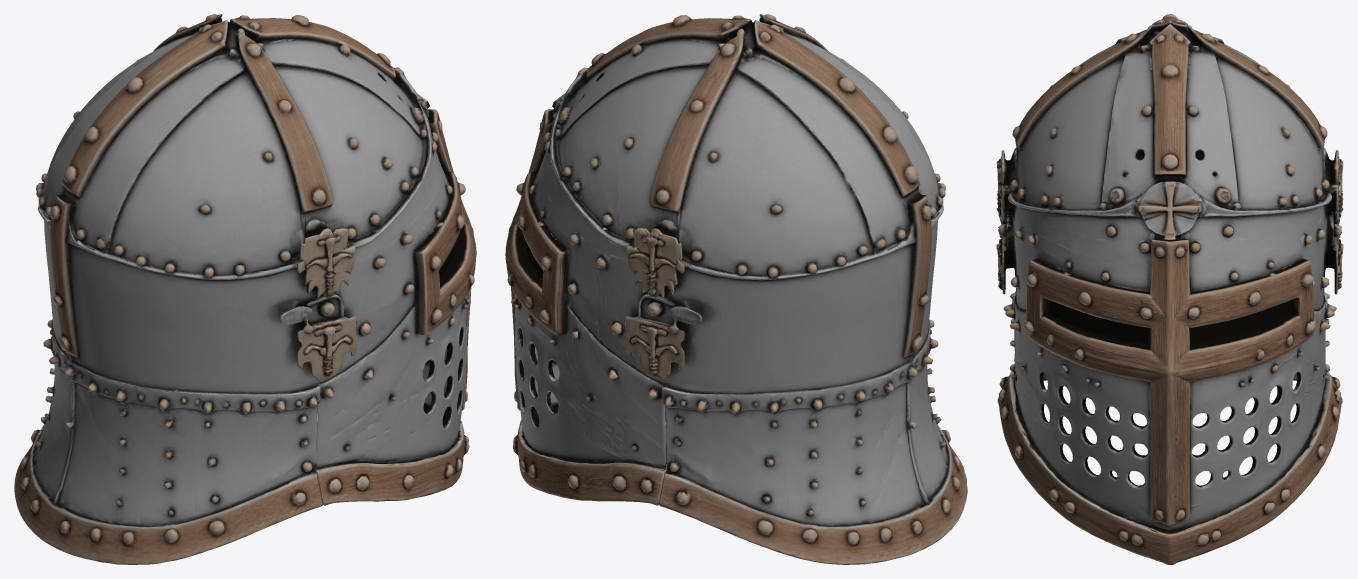
The model's file is metalhelmet01.glb.
The picture shows the model from 3 angles, left to right: view 1: azimuth 30°, elevation 25°; view 2: azimuth 150°, elevation 25°; view 3: azimuth 270°, elevation 25°; orthographic projection. The views are drawn at different scales.
Parts seen in each view (by area): view 1: tripo_node_605ef570-d2c6-46bd-931a-ef69c182338c; view 2: tripo_node_605ef570-d2c6-46bd-931a-ef69c182338c; view 3: tripo_node_605ef570-d2c6-46bd-931a-ef69c182338c.
Part boxes in pixels (<box>): tripo_node_605ef570-d2c6-46bd-931a-ef69c182338c: <box>14,14,476,564</box>; tripo_node_605ef570-d2c6-46bd-931a-ef69c182338c: <box>505,14,967,564</box>; tripo_node_605ef570-d2c6-46bd-931a-ef69c182338c: <box>996,14,1343,564</box>.
Bounding box in the file's own units: 0.9273 × 1 × 0.713.
1 material, 1 textured.
